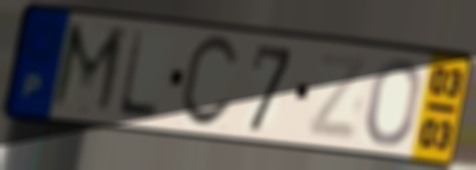7: (245, 41, 296, 134)
C: (175, 33, 242, 132)
L: (114, 27, 162, 123)
M: (45, 18, 130, 121)
O: (363, 56, 424, 149)
Z: (304, 49, 372, 144)
